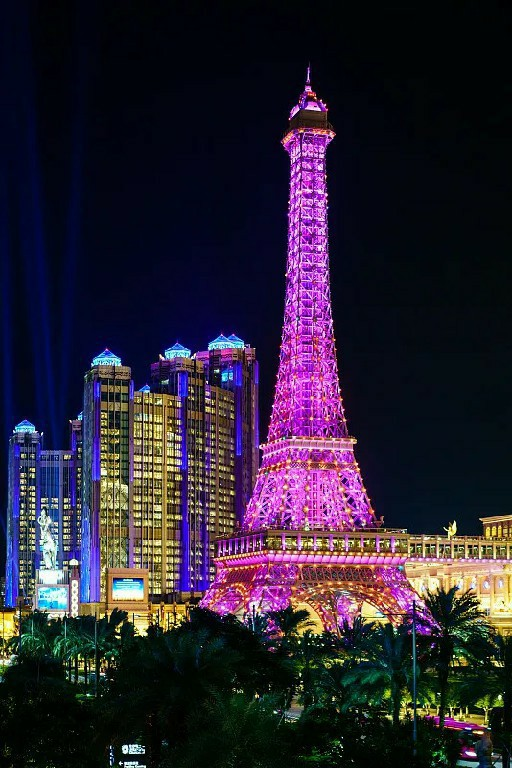Eiffel: (199, 59, 441, 654)
